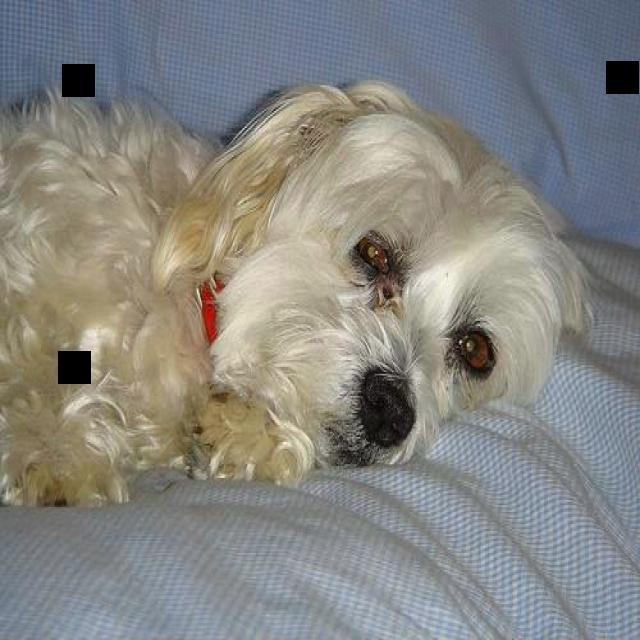adult_dog: (1, 77, 593, 508)
